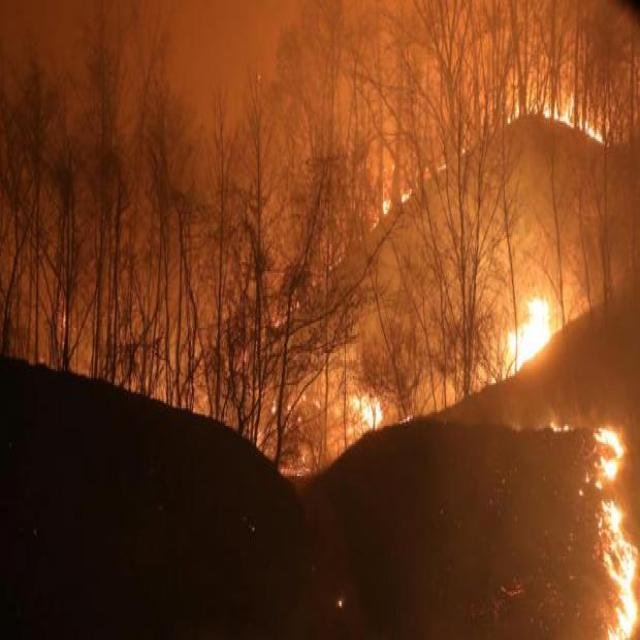Fire: (590, 433, 640, 640), (511, 308, 556, 368)
Smoke: (0, 2, 640, 296)
